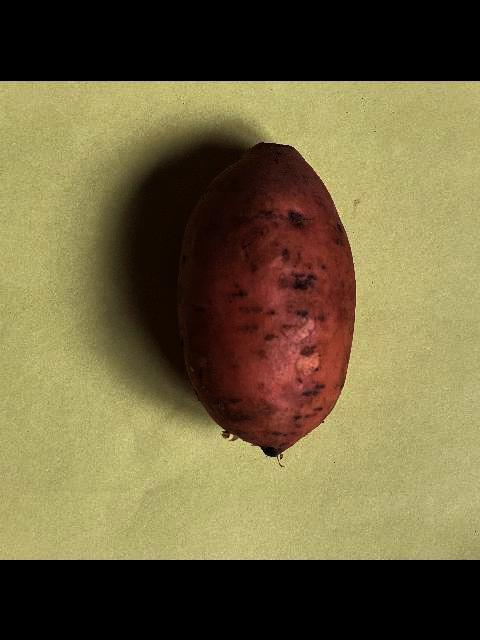sweetpotato: (174, 140, 359, 456)
